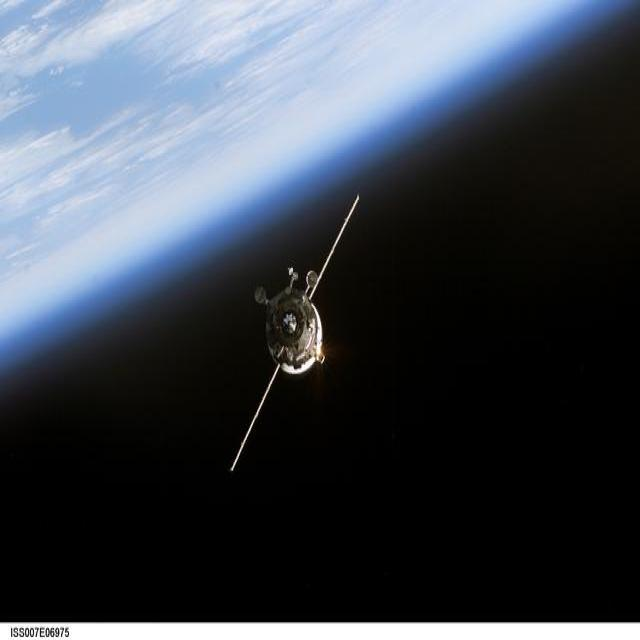medium_debris: (230, 199, 357, 472)
